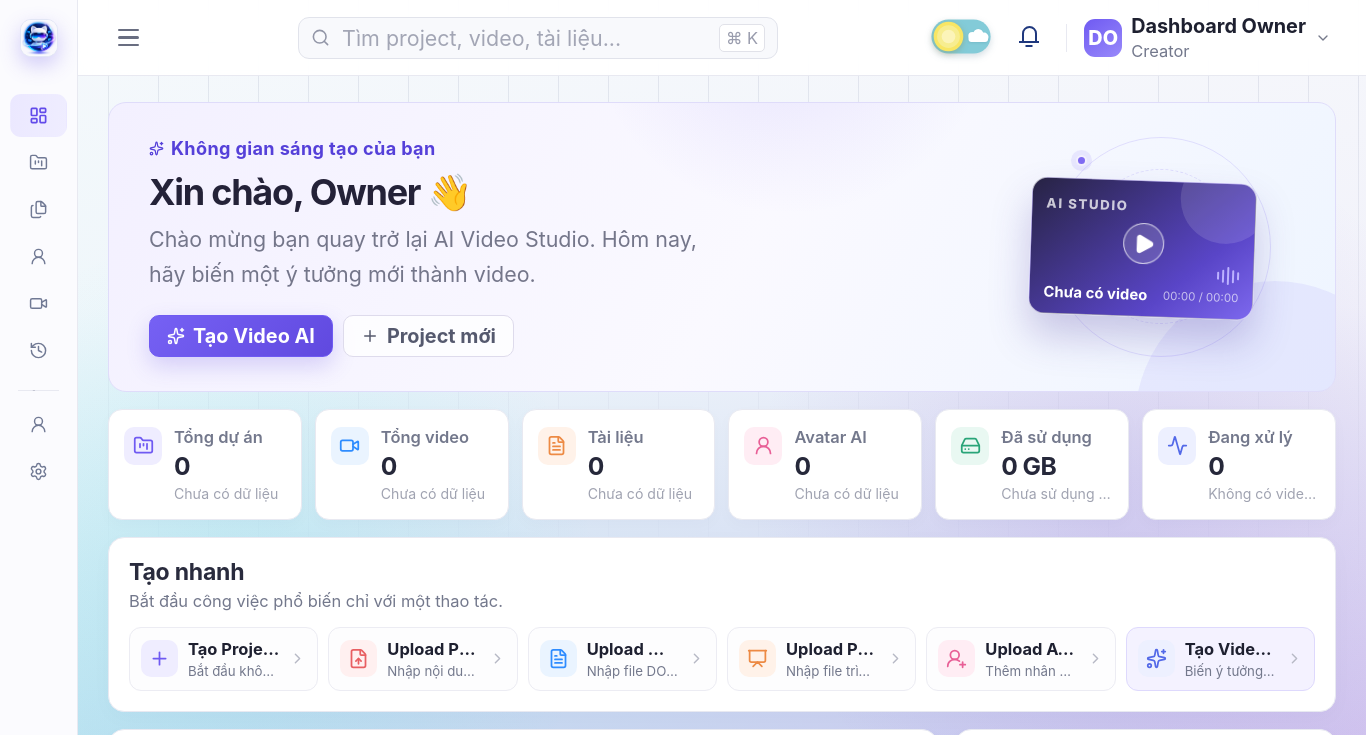
Test case: opens the create project page from the dashboard new project button
Expected: the button "DO Dashboard Owner Creator" is shown, [1081, 11, 1336, 64]
Click the button "Project mới": (428, 336) [343, 315, 514, 357]
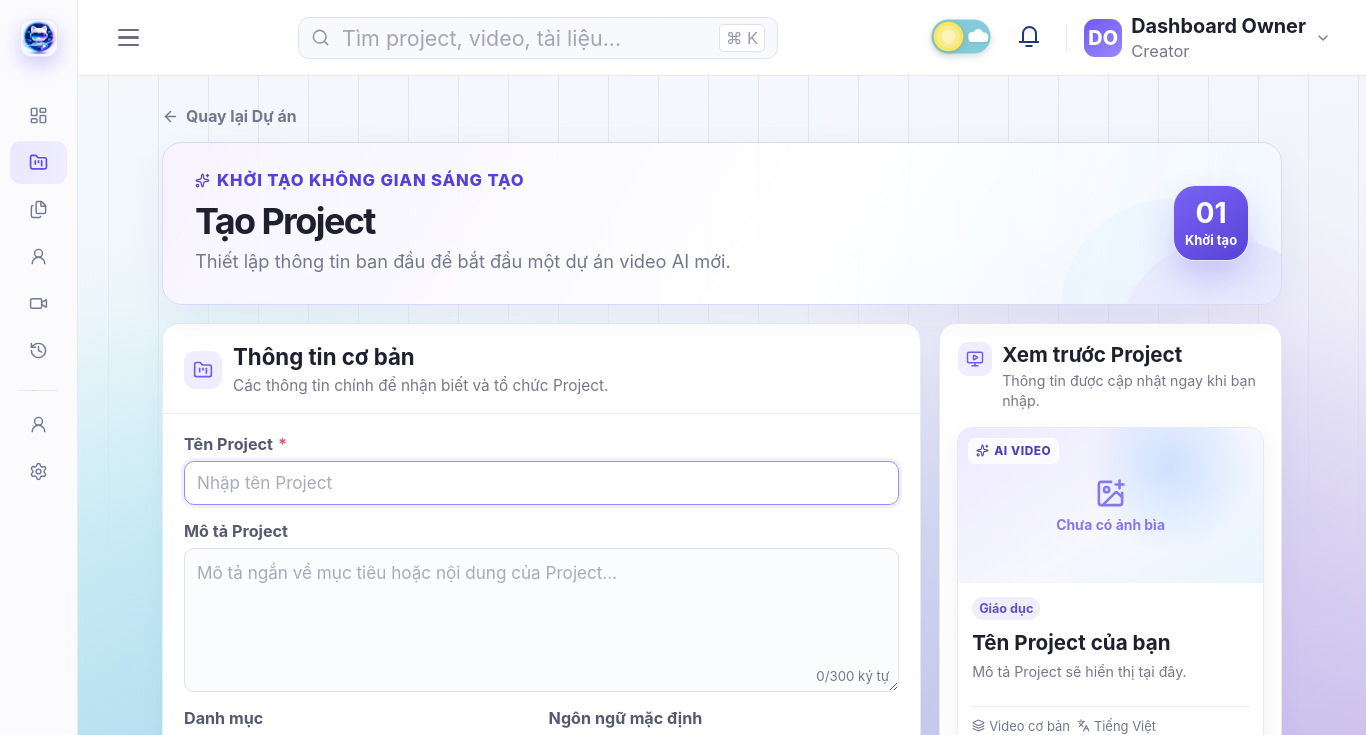
Result: the heading "Tạo Project" is shown at [195, 198, 375, 242]
Result: the field labelled "Tên Project *" is shown at [184, 461, 899, 505]
